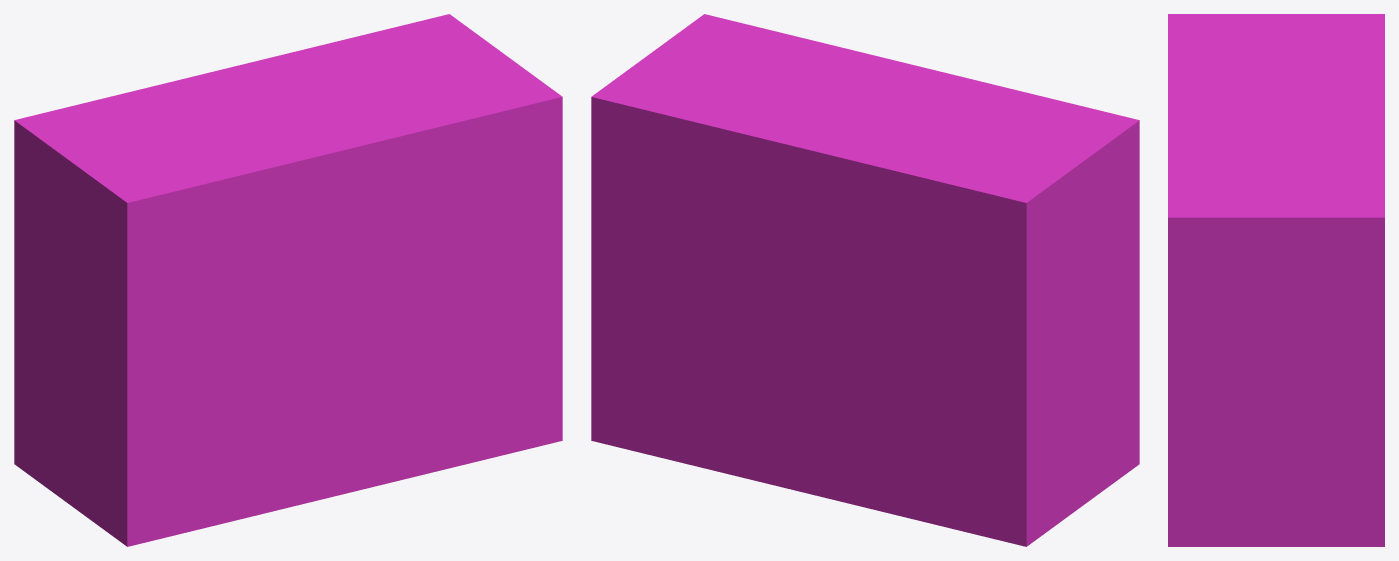
File: puzzle_room_button.glb
3 views of the same model, side by side, from view 1: azimuth 30°, elevation 25°; view 2: azimuth 150°, elevation 25°; view 3: azimuth 270°, elevation 25° (orthographic). The views are drawn at different scales.
Parts seen in each view (by area): view 1: button; view 2: button; view 3: button.
Part boxes in pixels (x1,y1,x2,y2): button: (14, 14, 562, 546); button: (591, 14, 1139, 546); button: (1168, 14, 1384, 546).
Size of the model in its own units: 0.5373 by 0.4057 by 0.242.
